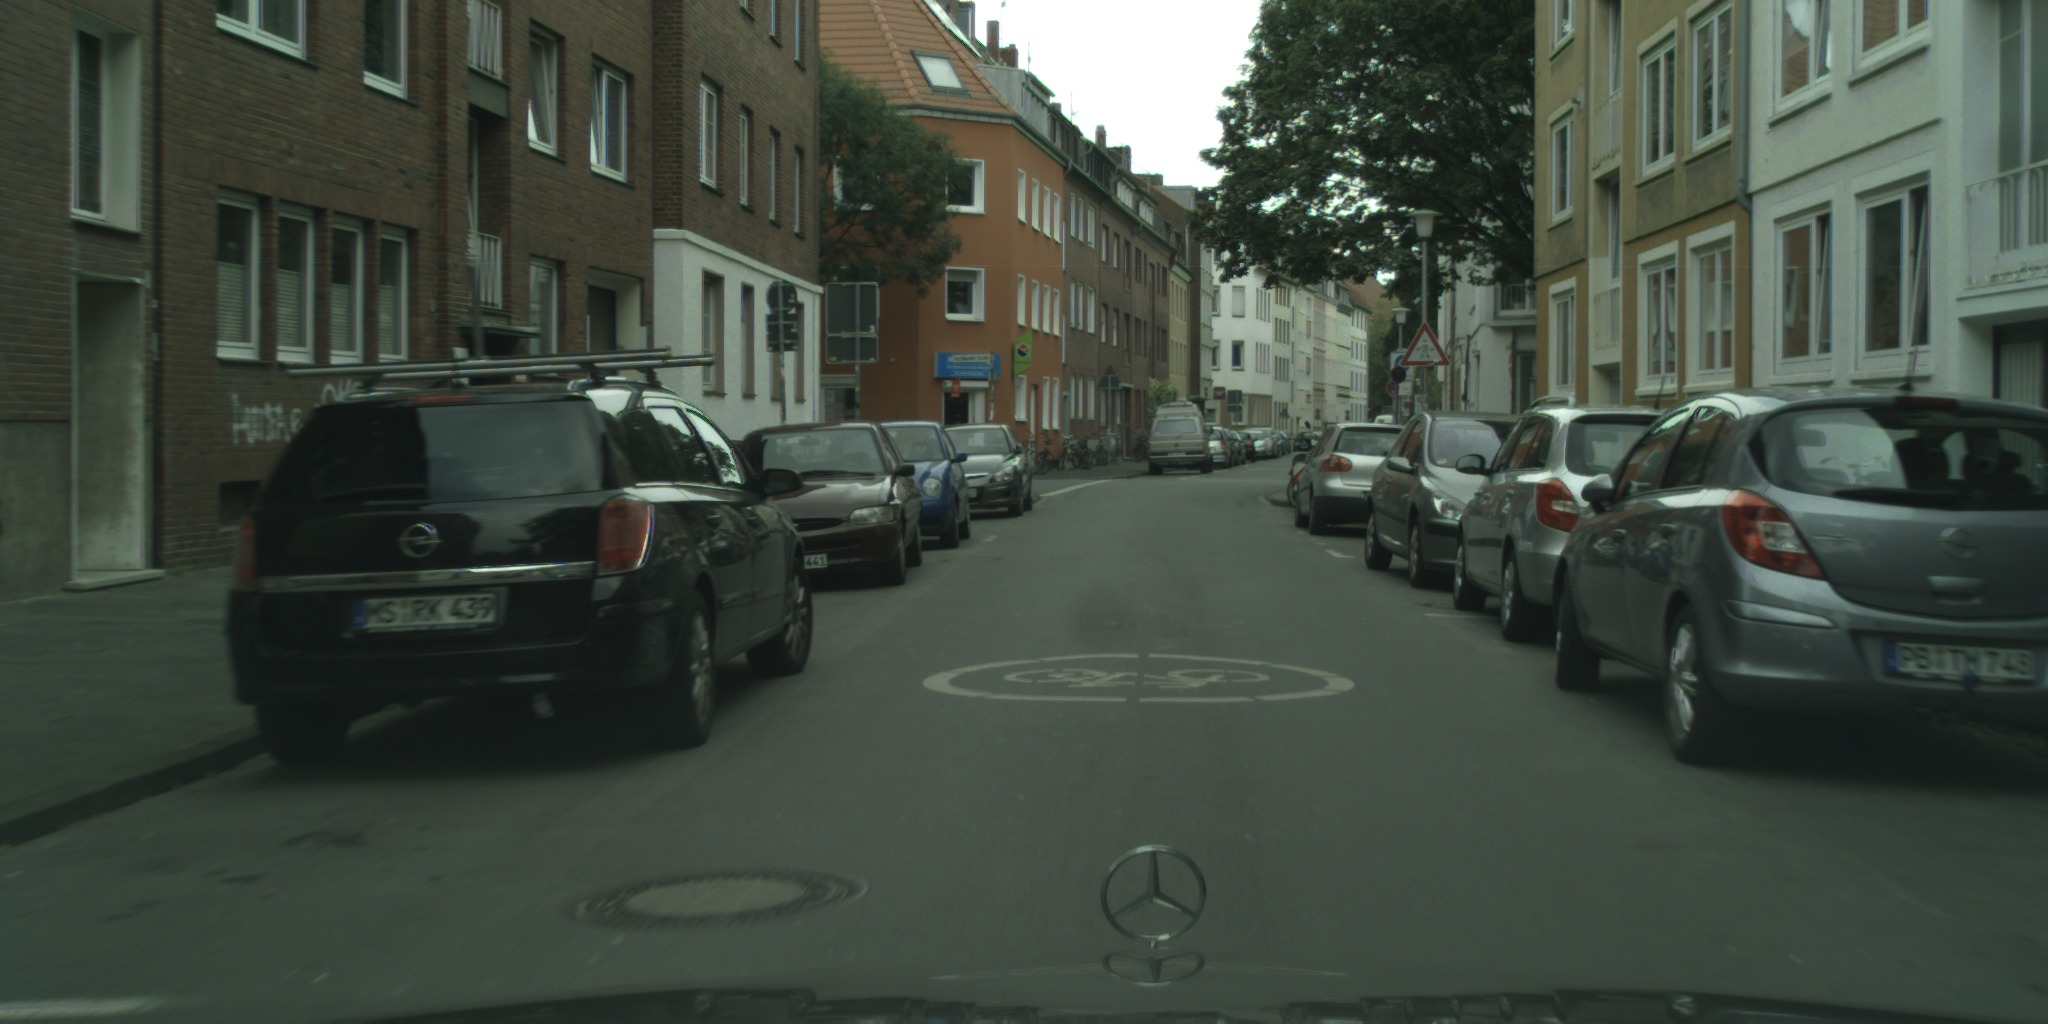bicycle: (1134, 431, 1153, 462)
car: (223, 346, 815, 765), (1554, 384, 2048, 768), (1452, 394, 1678, 645), (735, 419, 923, 588), (1364, 410, 1529, 589), (1293, 422, 1416, 536), (876, 421, 970, 550), (940, 424, 1034, 519), (1145, 401, 1213, 477), (1200, 426, 1233, 469), (1293, 430, 1334, 453), (1229, 428, 1256, 462), (1219, 428, 1240, 469), (1228, 430, 1249, 465), (1266, 428, 1290, 456), (1369, 415, 1395, 427)
motorcycle: (1285, 419, 1323, 512)
